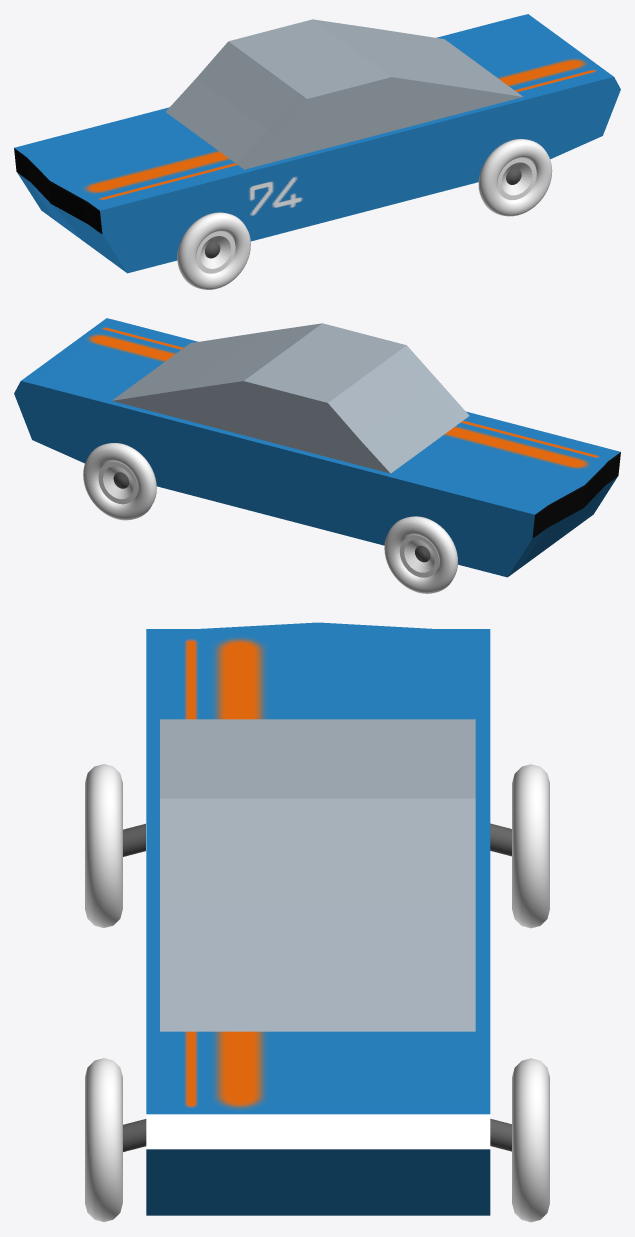
File: car.gltf
The picture shows the model from 3 angles, top to bottom: view 1: azimuth 30°, elevation 25°; view 2: azimuth 150°, elevation 25°; view 3: azimuth 270°, elevation 25°; orthographic projection. The views are drawn at different scales.
Parts seen in each view (by area): view 1: Body, Hood, Wheel Back Left, Wheel Front Left; view 2: Body, Hood, Wheel Back Right, Wheel Front Right; view 3: Body, Hood, Wheel Back Left, Wheel Front Left, Wheel Back Right, Wheel Front Right.
Part boxes in pixels (left/top/right/bottom): Body: left=14, top=14, right=620, bottom=273; Hood: left=166, top=19, right=522, bottom=169; Wheel Back Left: left=478, top=139, right=552, bottom=216; Wheel Front Left: left=177, top=212, right=250, bottom=289; Body: left=14, top=318, right=620, bottom=577; Hood: left=112, top=323, right=469, bottom=473; Wheel Back Right: left=83, top=443, right=156, bottom=520; Wheel Front Right: left=384, top=516, right=457, bottom=593; Body: left=146, top=622, right=490, bottom=1215; Hood: left=160, top=719, right=475, bottom=1031; Wheel Back Left: left=85, top=1058, right=122, bottom=1221; Wheel Front Left: left=85, top=764, right=122, bottom=927; Wheel Back Right: left=512, top=1058, right=549, bottom=1222; Wheel Front Right: left=512, top=764, right=549, bottom=928.
Bounding box in the file's own units: 3.86 × 1.08 × 1.47.
6 materials, 1 textured.
